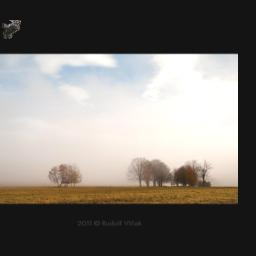Woodpecker: (3, 21, 22, 39)
